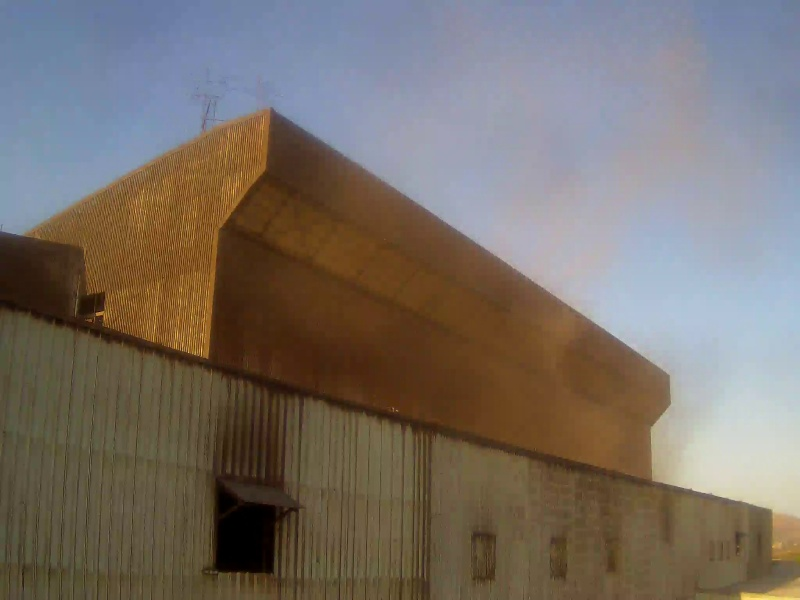pessimo: (314, 55, 710, 491)
